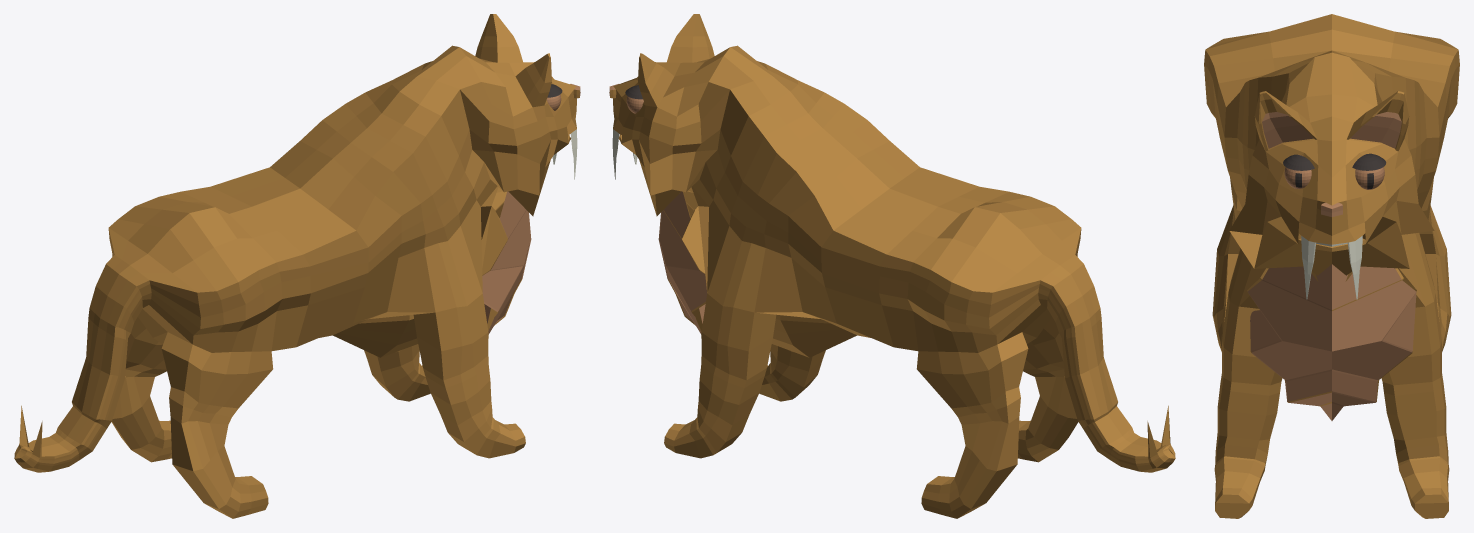
The model's file is DentedeSabreTexturizadooo.fbx.
The picture shows the model from 3 angles, left to right: view 1: azimuth 30°, elevation 25°; view 2: azimuth 150°, elevation 25°; view 3: azimuth 270°, elevation 25°; orthographic projection. The views are drawn at different scales.
Parts seen in each view (by area): view 1: Olho1.001; view 2: Olho1.001; view 3: Olho1.001.
Boxes of the visible parts, x1,y1,x2,y2 form: Olho1.001: [14, 14, 580, 518]; Olho1.001: [609, 14, 1175, 518]; Olho1.001: [1204, 14, 1459, 518].
Size of the model in its own units: 144 by 91.57 by 46.27.
